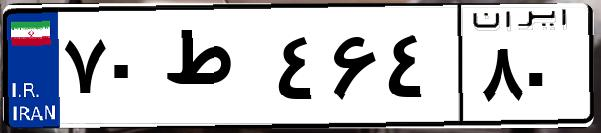0: (525, 38, 570, 115), (110, 28, 158, 98)
4: (270, 28, 330, 110), (385, 28, 445, 110)
6: (330, 28, 385, 110)
7: (57, 26, 110, 100)
8: (475, 38, 525, 113)
ط: (158, 20, 270, 120)
